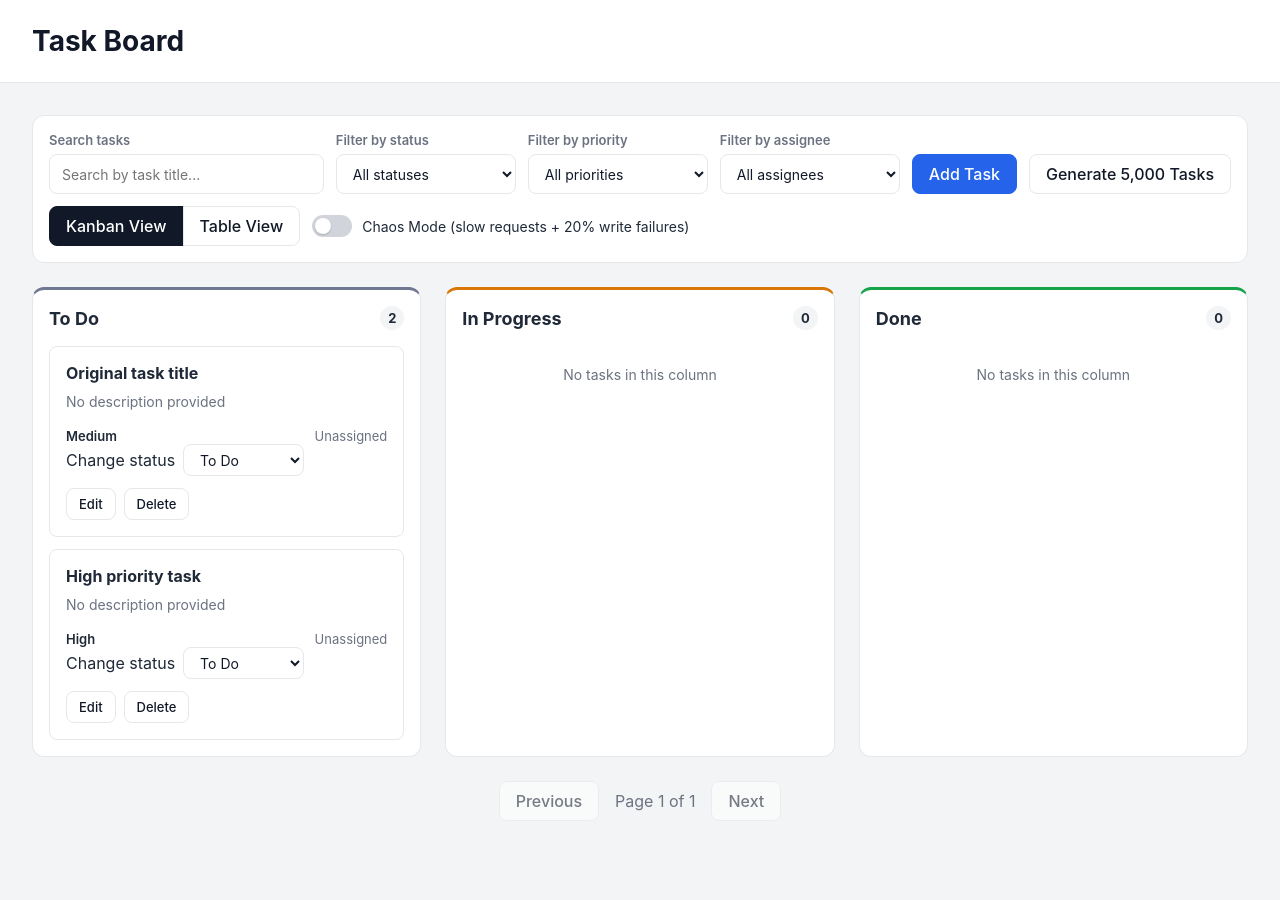
Priority filter › shows only tasks matching the selected priority
Expected: the button "Original task title" is shown, [66, 363, 198, 383]
Select "High" in the dropdown labelled "Filter by priority" at point(618, 174), box [528, 154, 708, 194]
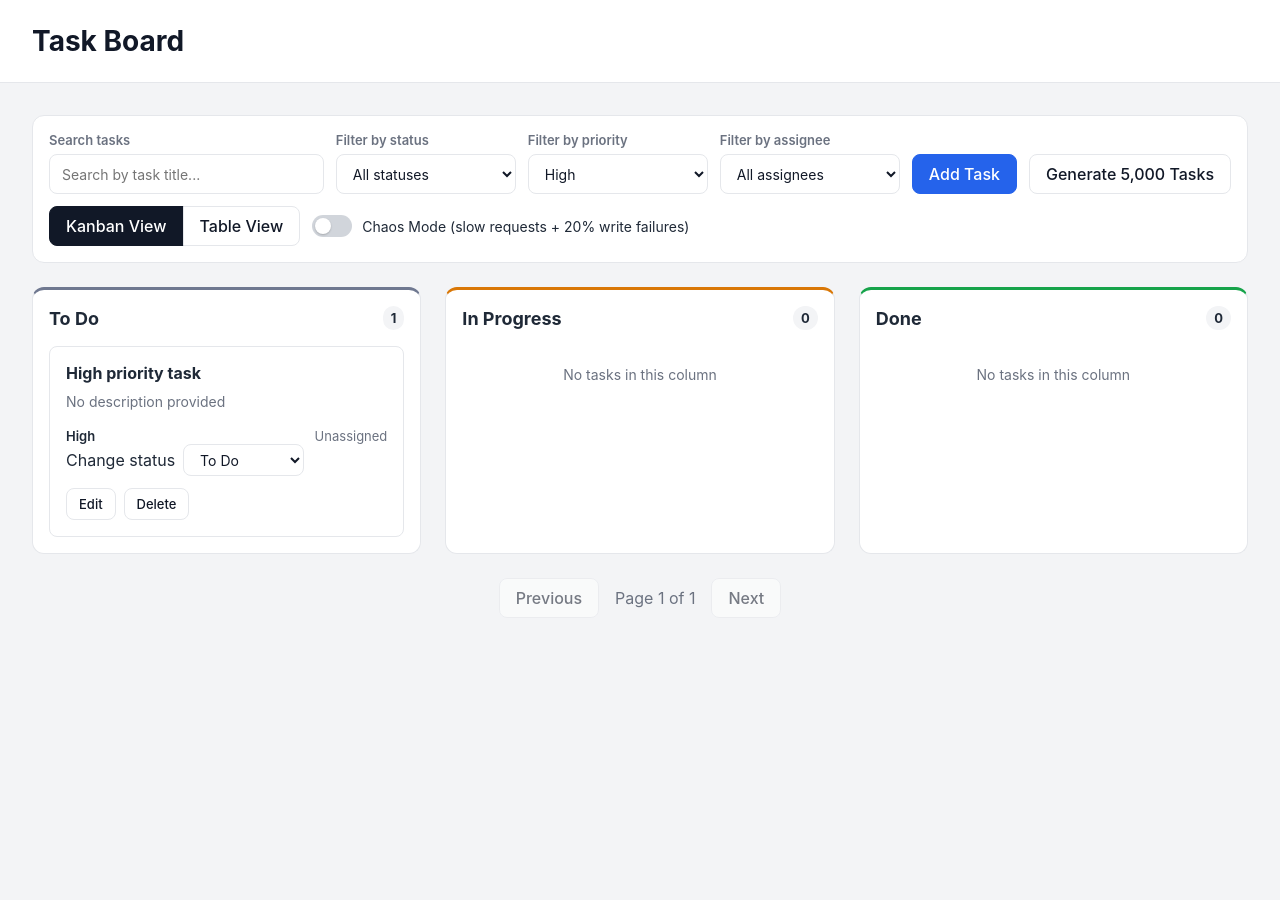
Expected: the button "High priority task" is shown, [66, 363, 201, 383]
Now the button "Original task title" is gone
